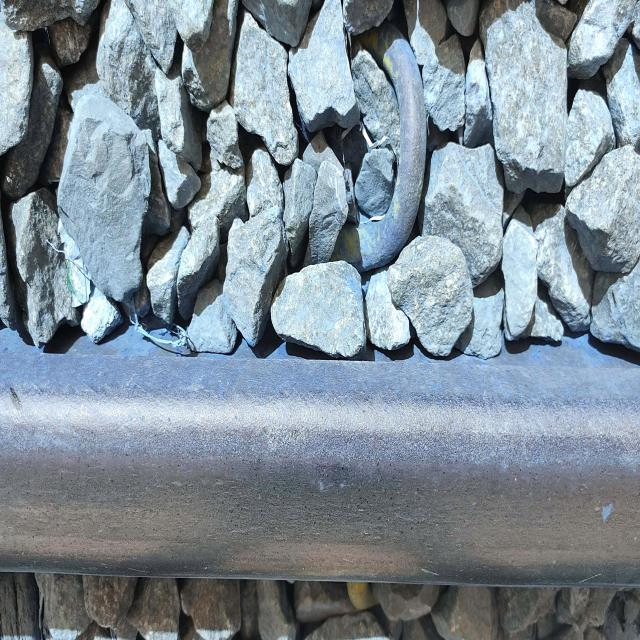Good Fasteners: (361, 39, 426, 268)
